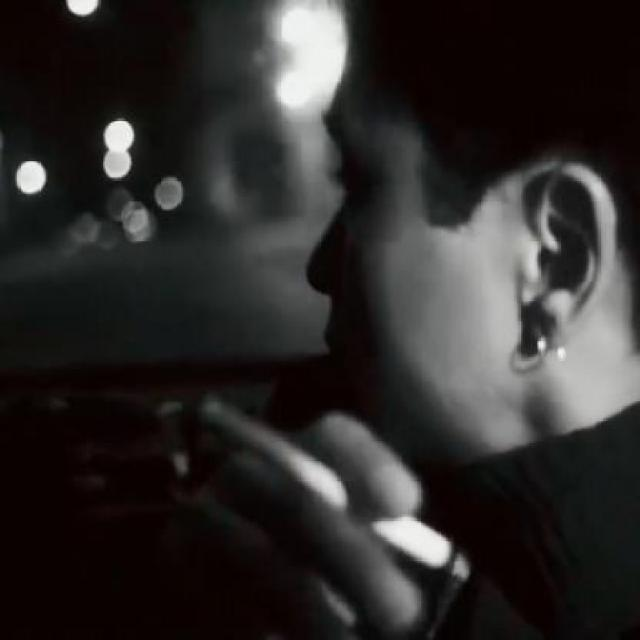cigarette: (175, 386, 458, 612)
